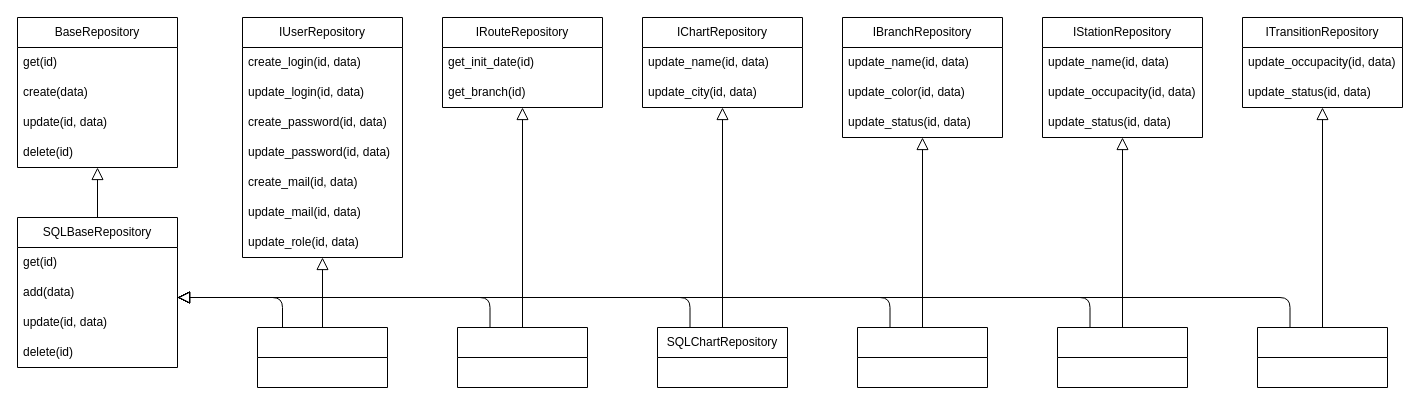
Image size: 1420x405. Some labels were removed from this diagram. The shapes that lost their labels are listed below. From the top down, each one's centre as x and y in pixels, then its label:
the point at 322,357: SQLUserRepository
the point at 522,357: SQLRouteRepository
the point at 922,357: SQLBranchRepository
the point at 1122,357: SQLStationRepository
the point at 1322,357: SQLTransitionRepository
